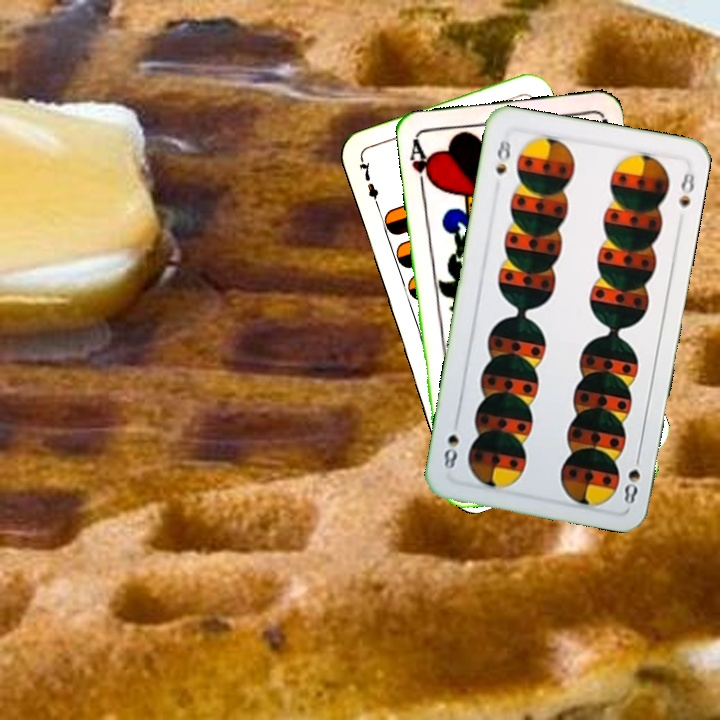E7: (355, 156, 383, 213)
HA: (406, 136, 437, 195)
S8: (620, 448, 644, 507), (491, 135, 514, 177)
